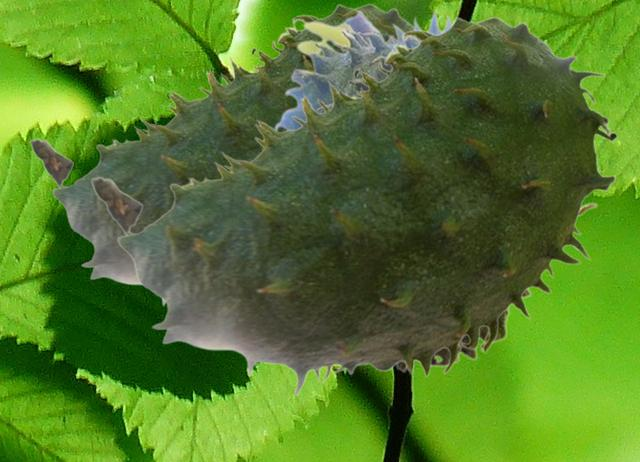guyabano: (90, 16, 617, 397), (273, 6, 598, 373), (29, 3, 412, 307)
